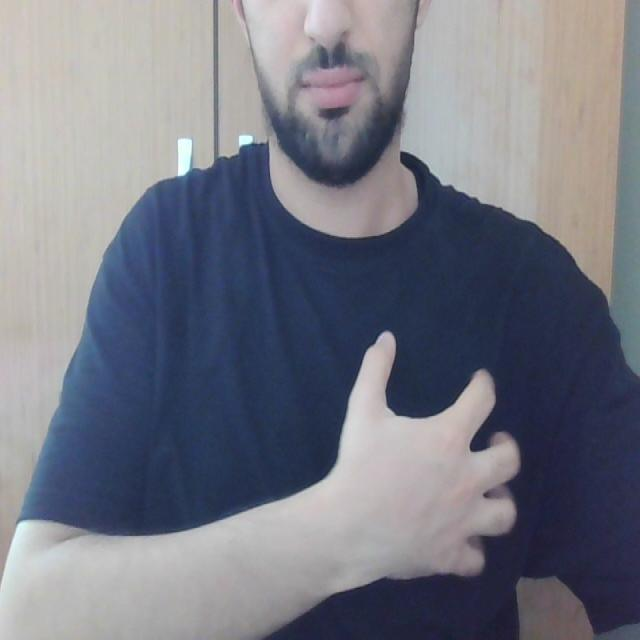Anne: (142, 272, 565, 606)
